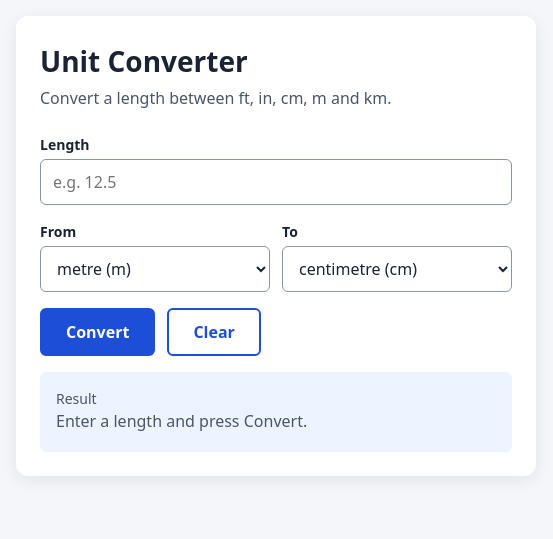
Scenario: S4: inline error messages › S4: input  + Convert shows Please enter a valid number and no result
Clear the field labelled "Length" at (276, 182), box [40,159,512,205]
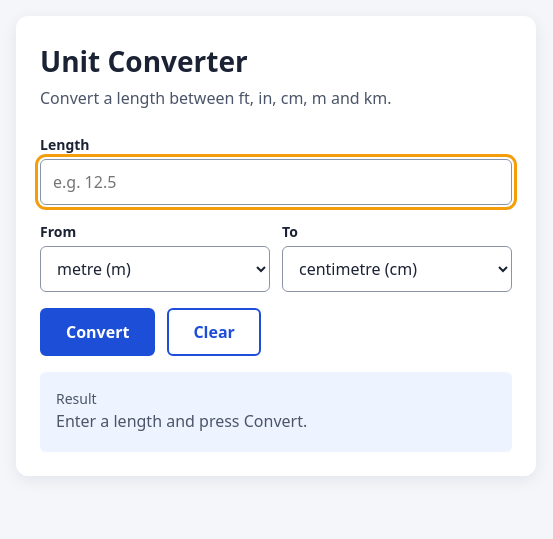
Select "metre (m)" in the dropdown labelled "From" at (155, 269), box [40,246,270,292]
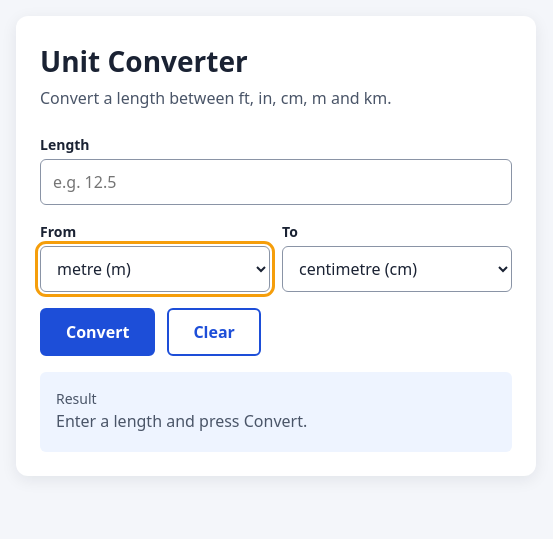
Select "centimetre (cm)" in the dropdown labelled "To" at (397, 269), box [282,246,512,292]
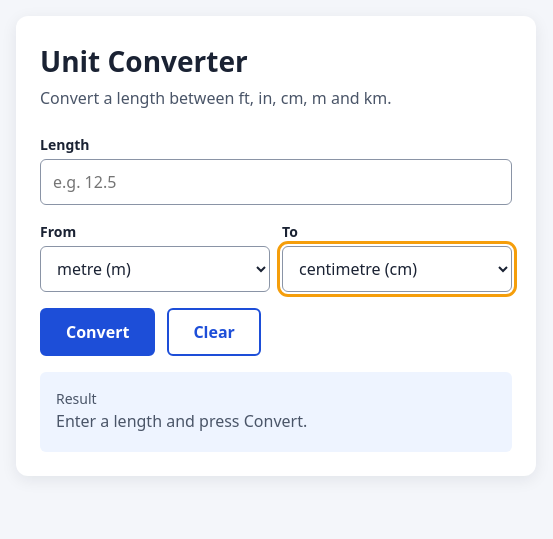
Click the button "Convert" at (98, 332), box [40,308,155,356]
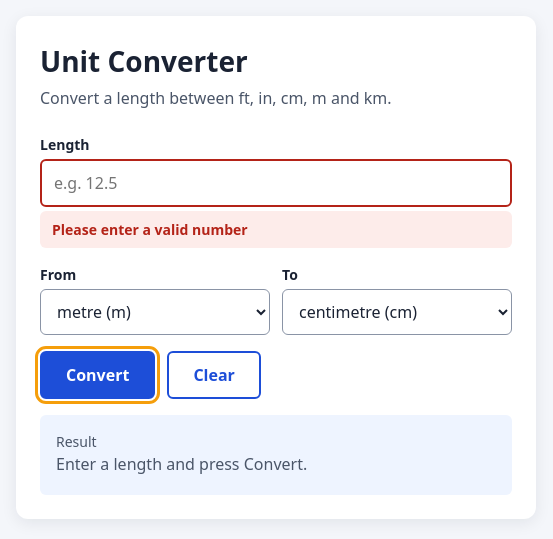
Result: the message reads "Please enter a valid number" at [52,220,248,239]
